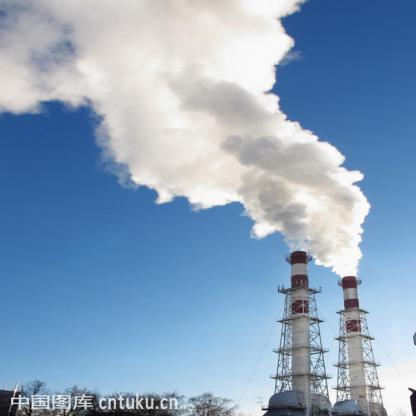smoke: (155, 4, 273, 146), (155, 148, 349, 188), (0, 0, 66, 114), (68, 4, 139, 98), (260, 189, 358, 235), (106, 105, 145, 168), (324, 238, 350, 267)
